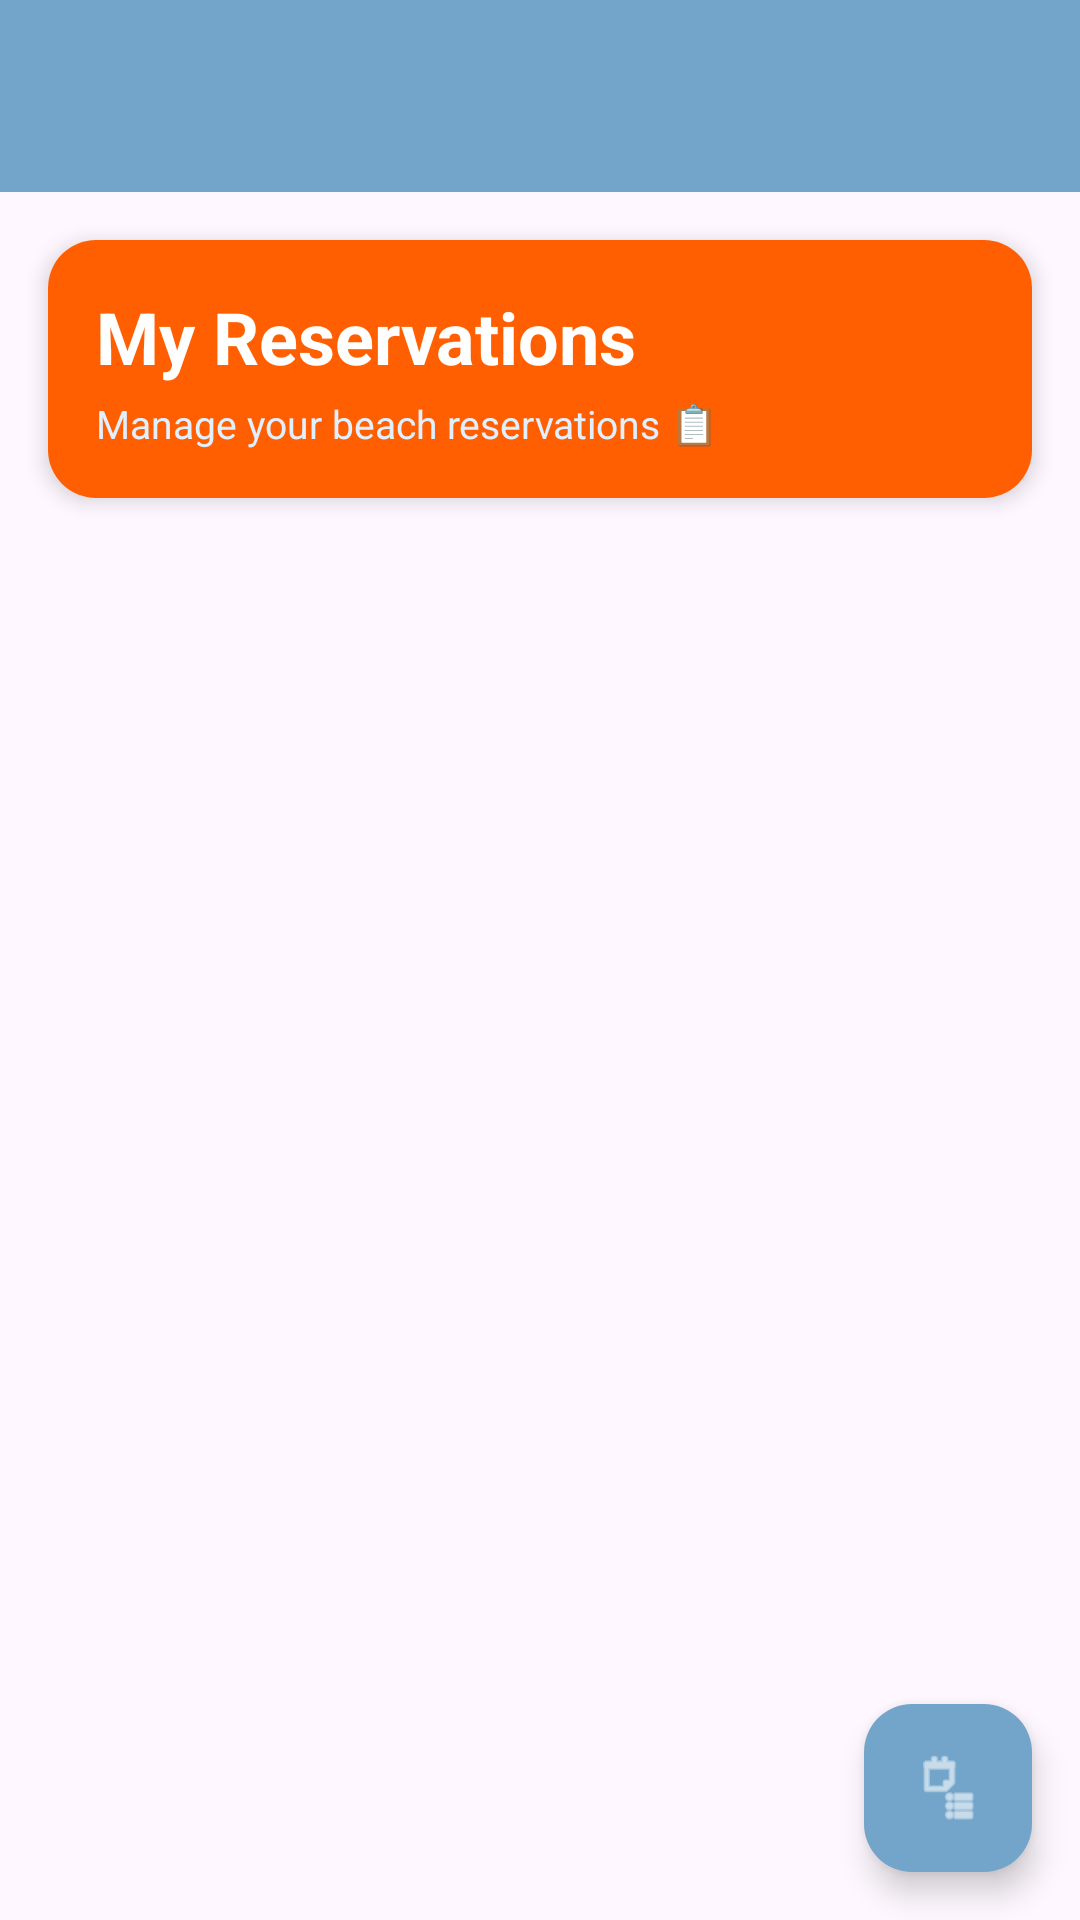

Named icons in this screenshot (1080 × 1920) and their bounding boxes, [x1,y1,x2,y2]:
agenda: [864,1704,1032,1872]
